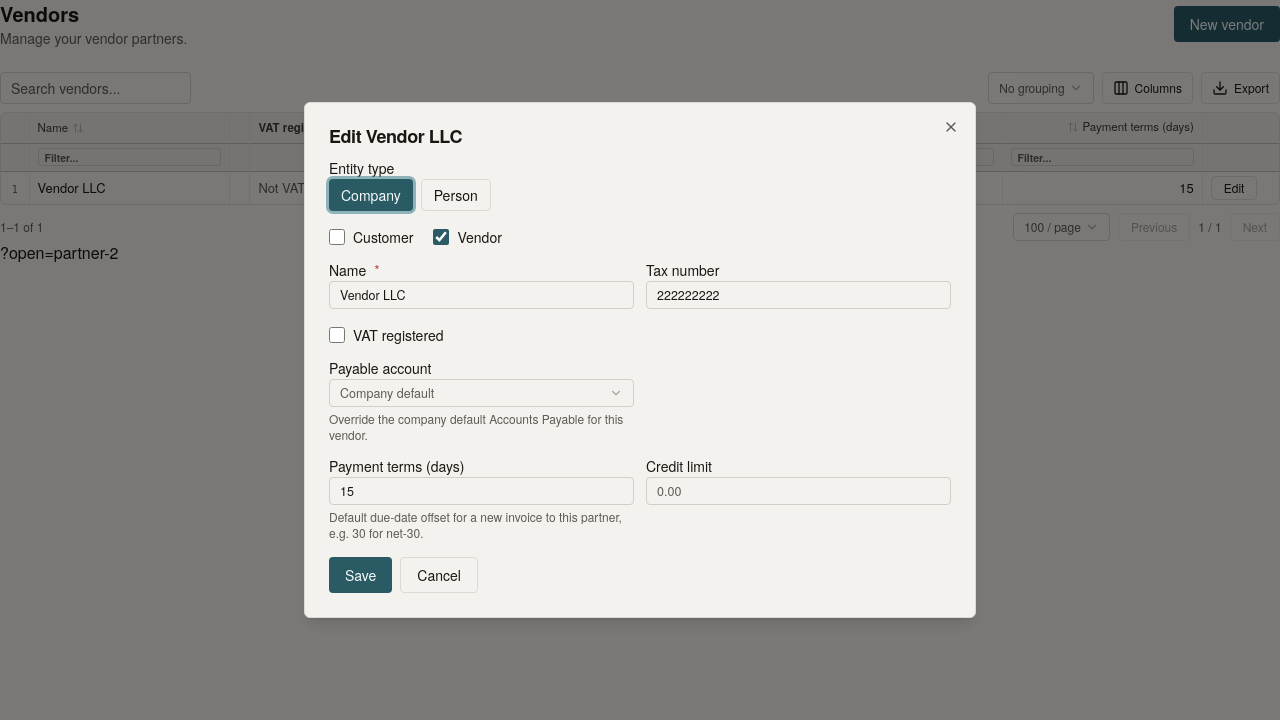
it: partner list ?open= › opens the editor for the id and clears the param on close
Expected: the dialog shows "Vendor LLC", [329,123,462,149]
What coordinates should you click on to do the following:
click the button "Cancel"
I would click on:
 (439, 575)
Its box is [400,557,478,593].
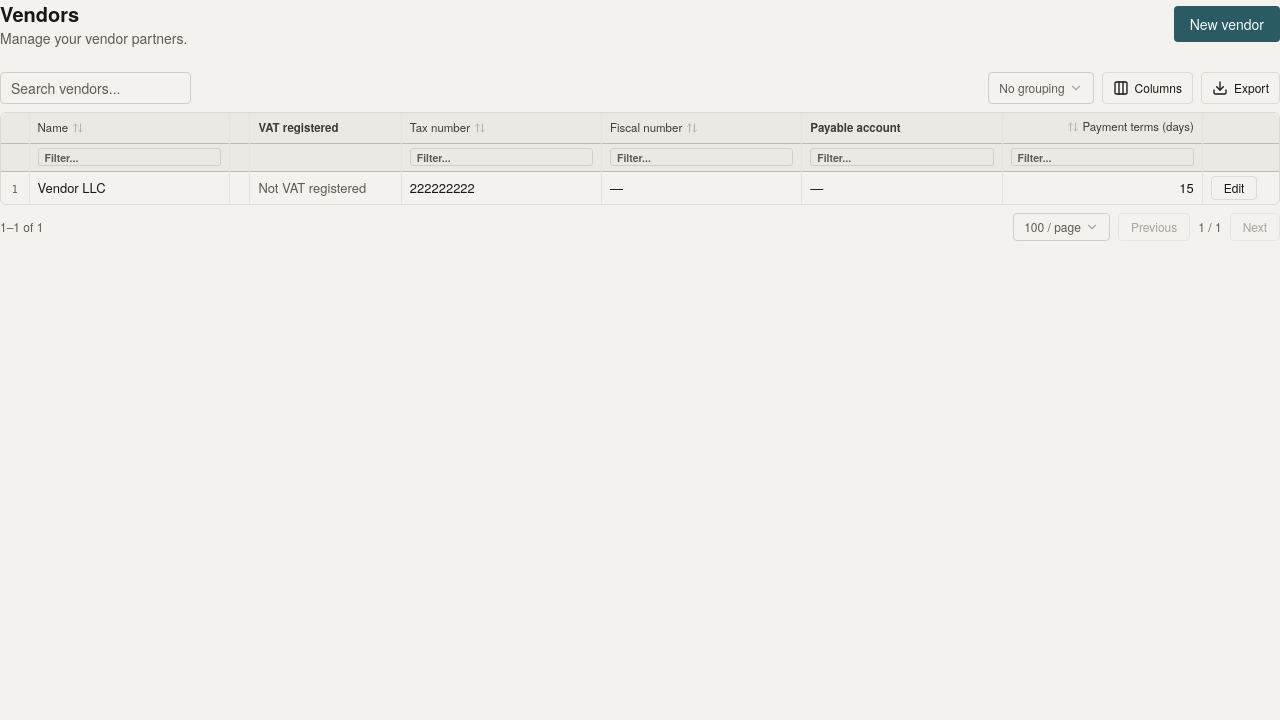
Now the dialog is gone
